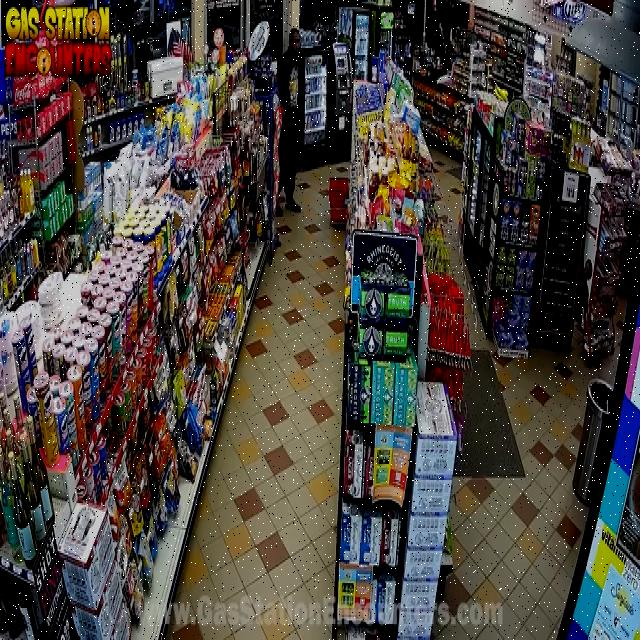person: (278, 28, 304, 210)
